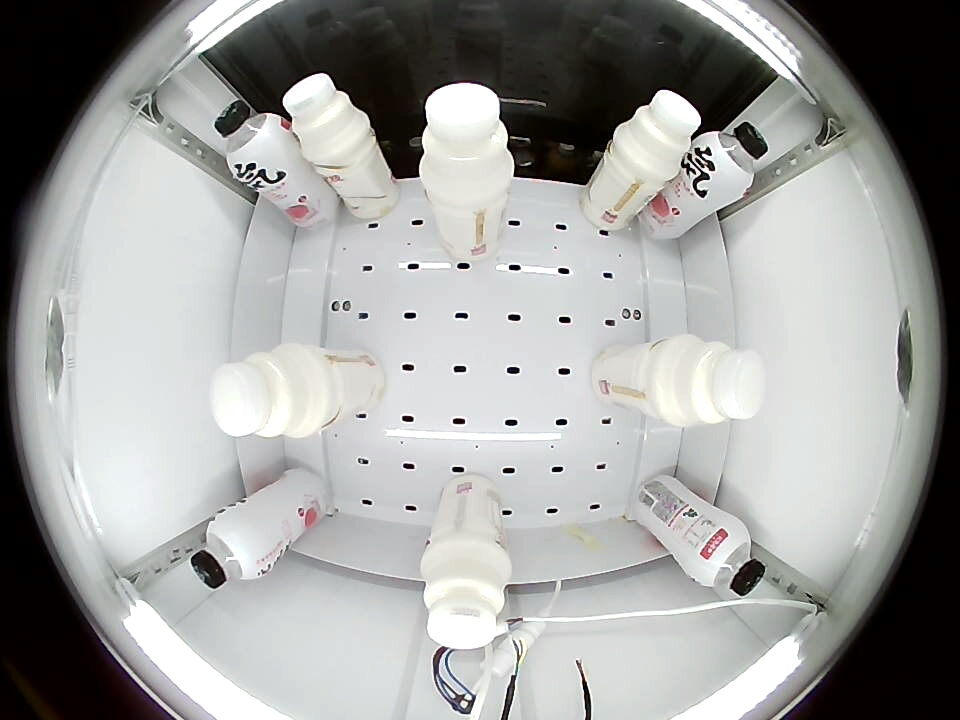yingyangkuaixian: (419, 83, 515, 204), (210, 343, 327, 439), (654, 334, 765, 427), (420, 540, 513, 648), (611, 90, 702, 183), (282, 73, 373, 163)
yuanqishui: (188, 512, 270, 589), (214, 100, 292, 179), (688, 519, 768, 596), (691, 122, 770, 198)
